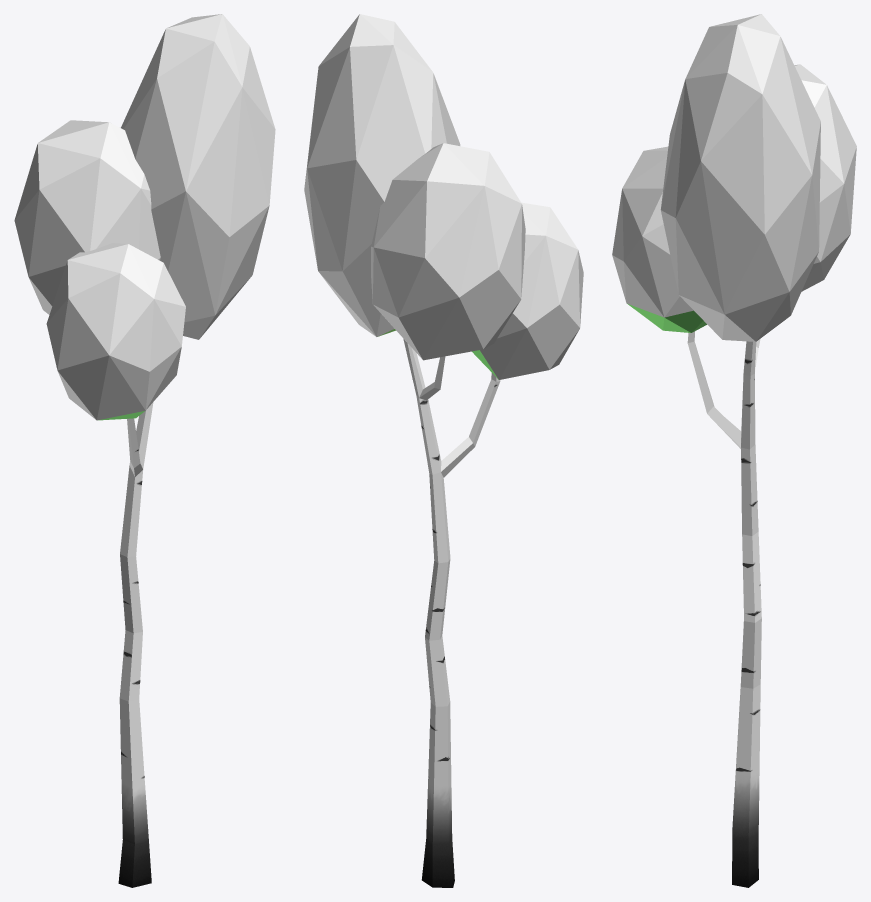
File: Birch_Tree_l_Snow_BT_02.fbx
3 renders of one model, left to right at view 1: azimuth 30°, elevation 25°; view 2: azimuth 150°, elevation 25°; view 3: azimuth 270°, elevation 25°, orthographic. The views are drawn at different scales.
Parts seen in each view (by area): view 1: Birch_Tree_l_Snow_BT_02; view 2: Birch_Tree_l_Snow_BT_02; view 3: Birch_Tree_l_Snow_BT_02.
Part boxes in pixels (left/top/right/bottom): Birch_Tree_l_Snow_BT_02: left=14, top=14, right=275, bottom=887; Birch_Tree_l_Snow_BT_02: left=304, top=14, right=583, bottom=887; Birch_Tree_l_Snow_BT_02: left=612, top=14, right=856, bottom=887.
Bounding box in the file's own units: 614 × 2109 × 521.
